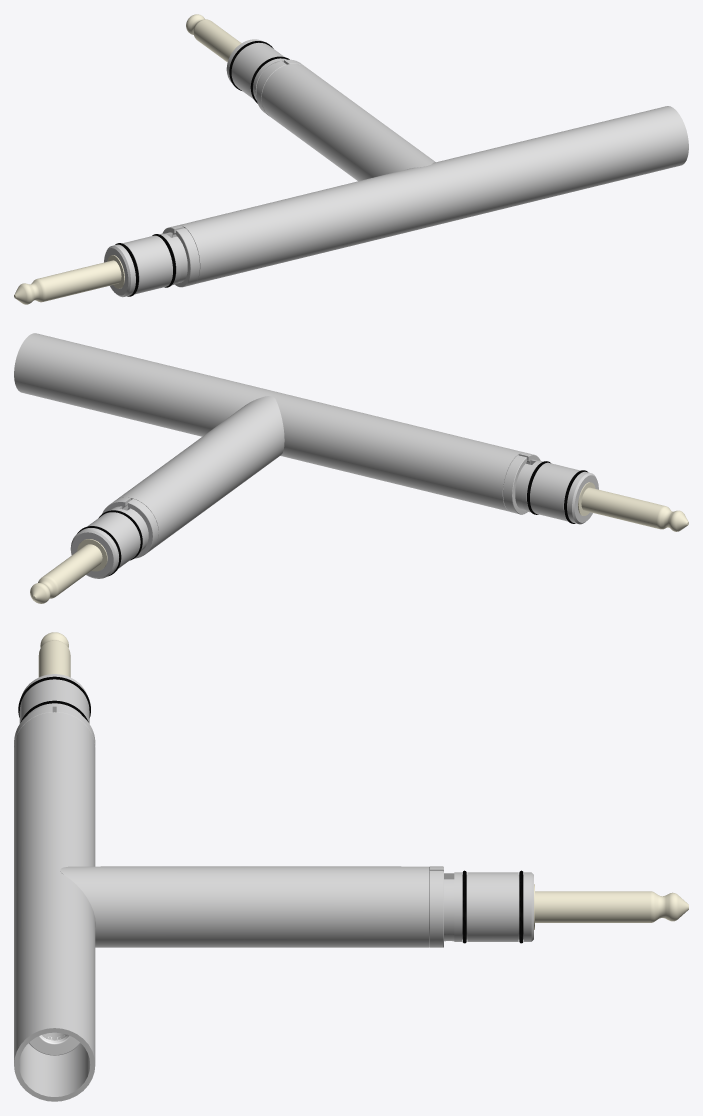
File: TJoint(male).glb
3 views of the same model, one above another, from view 1: azimuth 30°, elevation 25°; view 2: azimuth 150°, elevation 25°; view 3: azimuth 270°, elevation 25° (orthographic). The views are drawn at different scales.
Visible parts, largest first — view 1: Body1.106; view 2: Body1.106; view 3: Body1.106.
Part boxes in pixels (x1=…): Body1.106: x1=14, y1=14, x2=688, y2=304; Body1.106: x1=14, y1=333, x2=688, y2=603; Body1.106: x1=14, y1=632, x2=688, y2=1101.
Bounding box in the file's own units: 1.98 × 0.1601 × 1.33.
